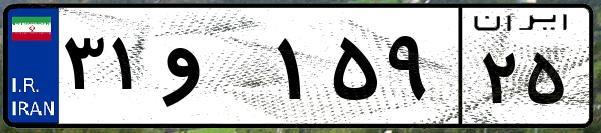1: (270, 28, 330, 110), (110, 28, 158, 98)
2: (475, 38, 525, 113)
3: (57, 26, 110, 100)
5: (330, 28, 385, 110), (525, 38, 570, 115)
9: (385, 28, 445, 110)
و: (158, 20, 270, 120)
